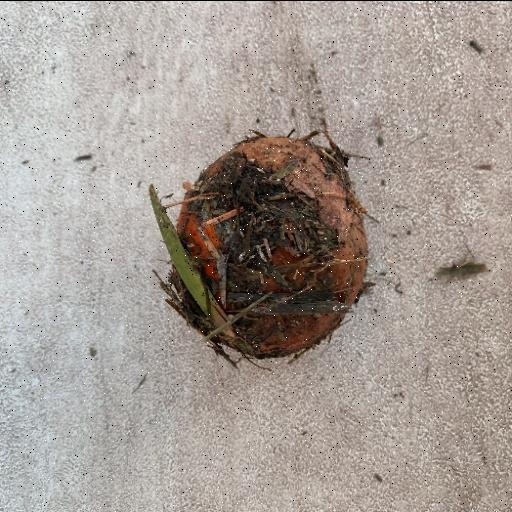Waste: (148, 127, 370, 367)
